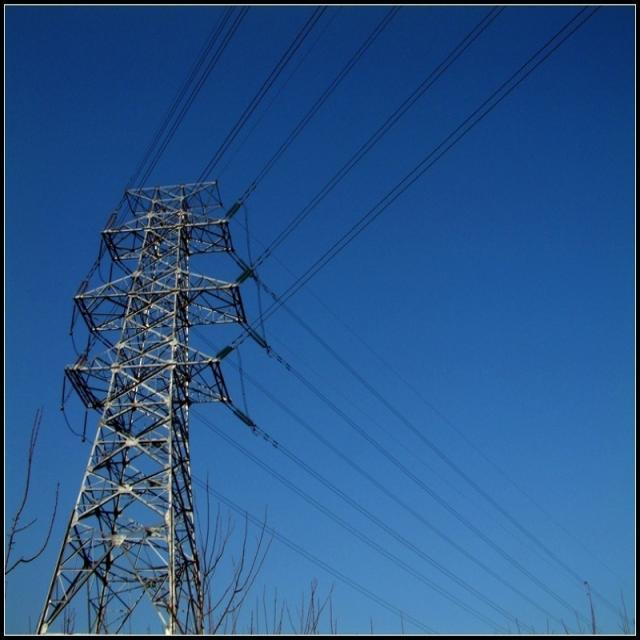non-critical vegetation: (76, 161, 222, 637)
